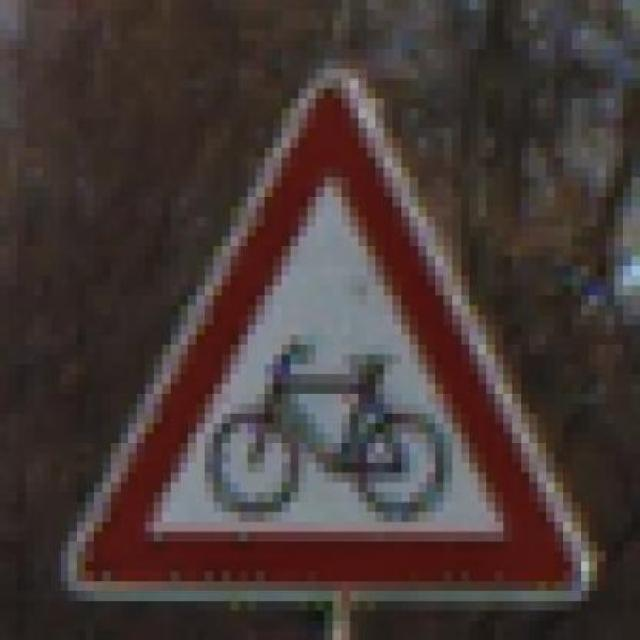CYCLE ROUTE AHEAD WARNING: (59, 69, 598, 611)
